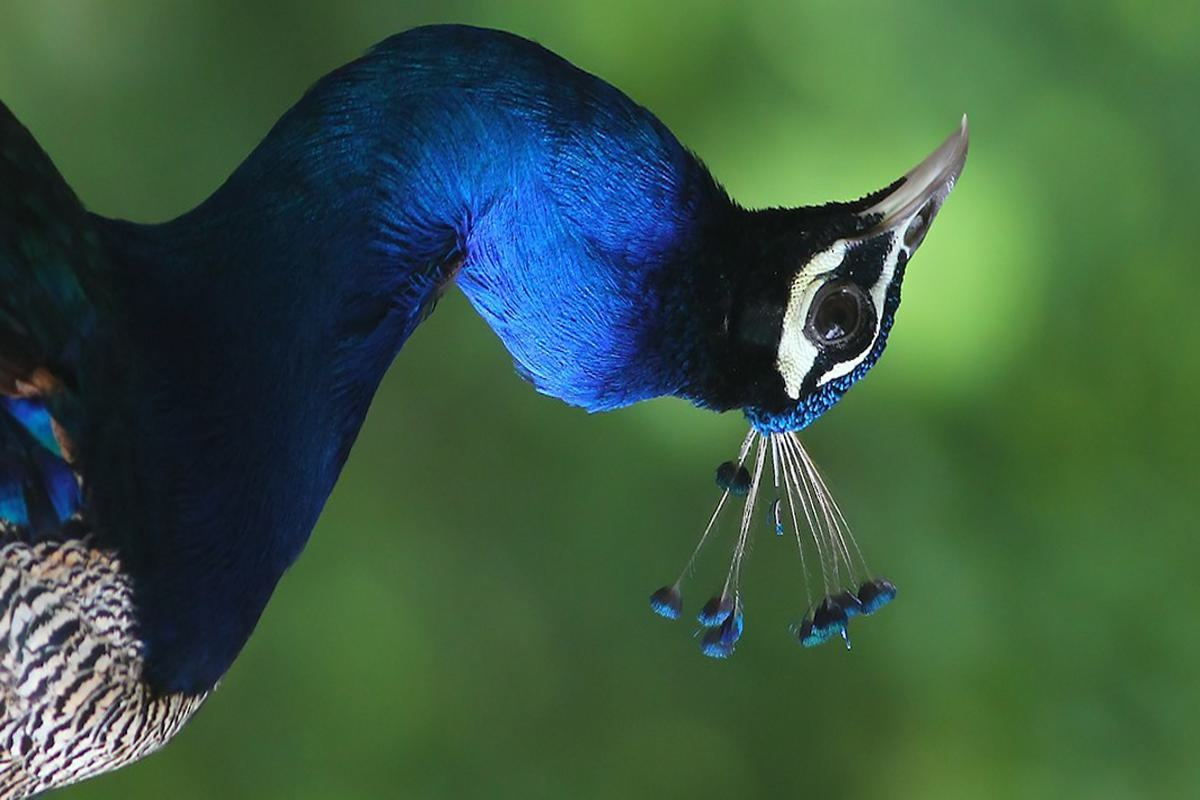peacock: (1, 78, 1038, 712)
